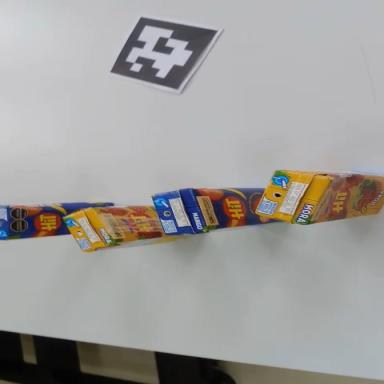HIT-MANGO: (152, 176, 278, 240), (0, 197, 116, 240)
HIT-MORA: (256, 170, 384, 228), (64, 198, 181, 254)
cara_F: (190, 178, 280, 233), (6, 199, 116, 239), (302, 172, 384, 225), (93, 199, 166, 244)
